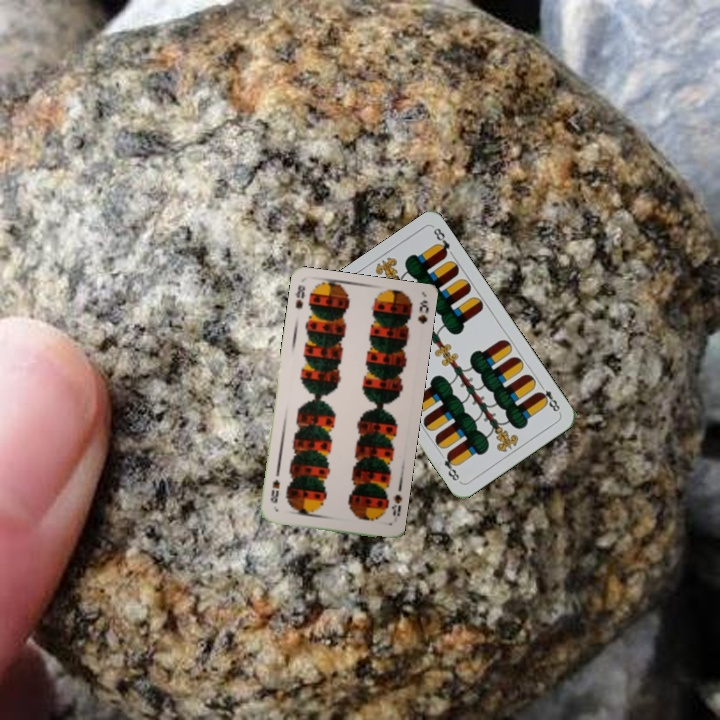E8: (534, 379, 563, 416)
S8: (387, 490, 405, 519), (291, 281, 308, 311)
